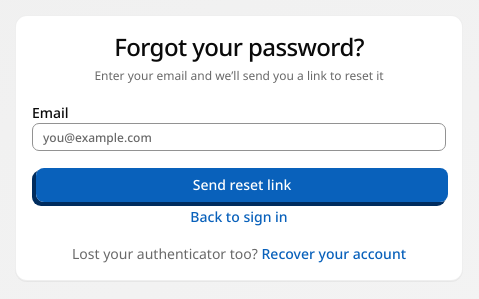
Test: shows the generic confirmation after a successful submission
Type "someone@example.com" into the field labelled "Email" at {"x": 239, "y": 137}, box [32,123,446,151]
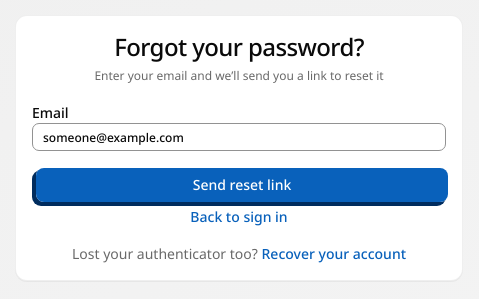
Click the button "Send reset link" at {"x": 242, "y": 185}, box [35,167,449,203]
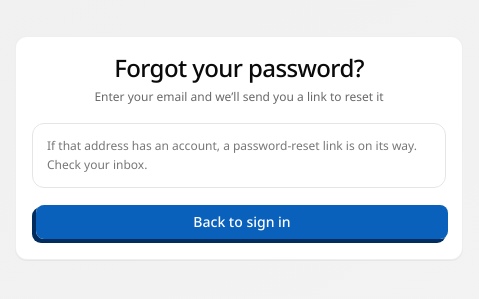
Result: the element with test id "forgot-password-sent" is shown at [32,123,446,243]
